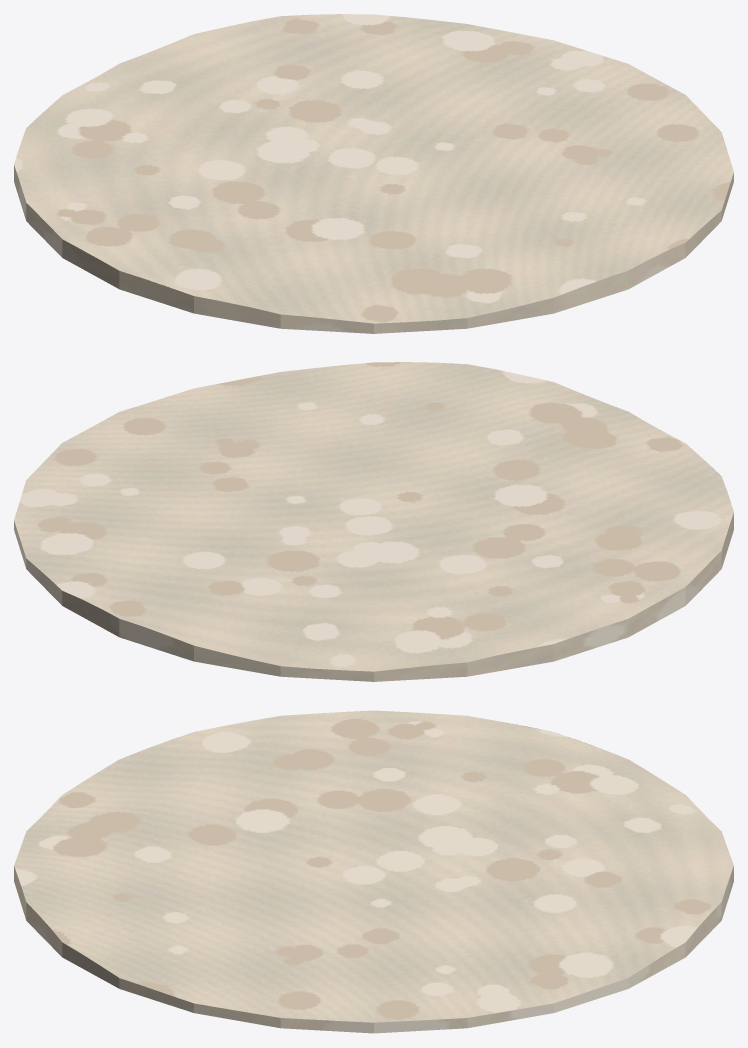
File: cabin_fluff.glb
3 views of the same model, one above another, from view 1: azimuth 30°, elevation 25°; view 2: azimuth 150°, elevation 25°; view 3: azimuth 270°, elevation 25° (orthographic).
Visible parts, largest first — view 1: fluff; view 2: fluff; view 3: fluff.
Boxes of the visible parts, x1,y1,x2,y2 form: fluff: [14, 14, 733, 333]; fluff: [14, 362, 733, 681]; fluff: [14, 710, 733, 1033].
Size of the model in its own units: 1.44 by 0.0417 by 1.44.
Materials: 1 (1 with a texture image).
